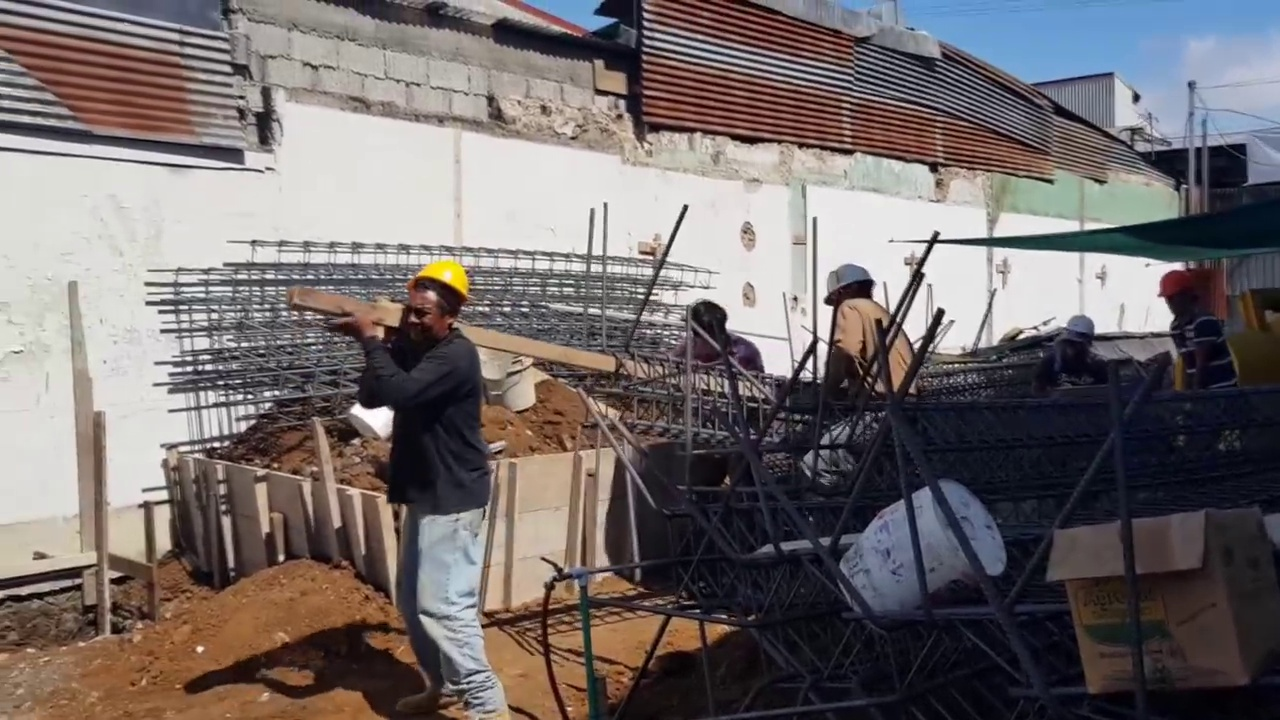helmet: (404, 256, 470, 305), (824, 261, 874, 304), (1157, 270, 1194, 298), (1062, 319, 1099, 337)
helmet-off: (681, 298, 732, 361)
helmet-on: (396, 260, 472, 356), (822, 261, 874, 311), (1157, 269, 1198, 318), (1053, 319, 1100, 358)
person: (327, 238, 503, 704), (668, 294, 769, 486), (817, 257, 909, 403), (1156, 269, 1237, 386), (1030, 319, 1116, 402)
